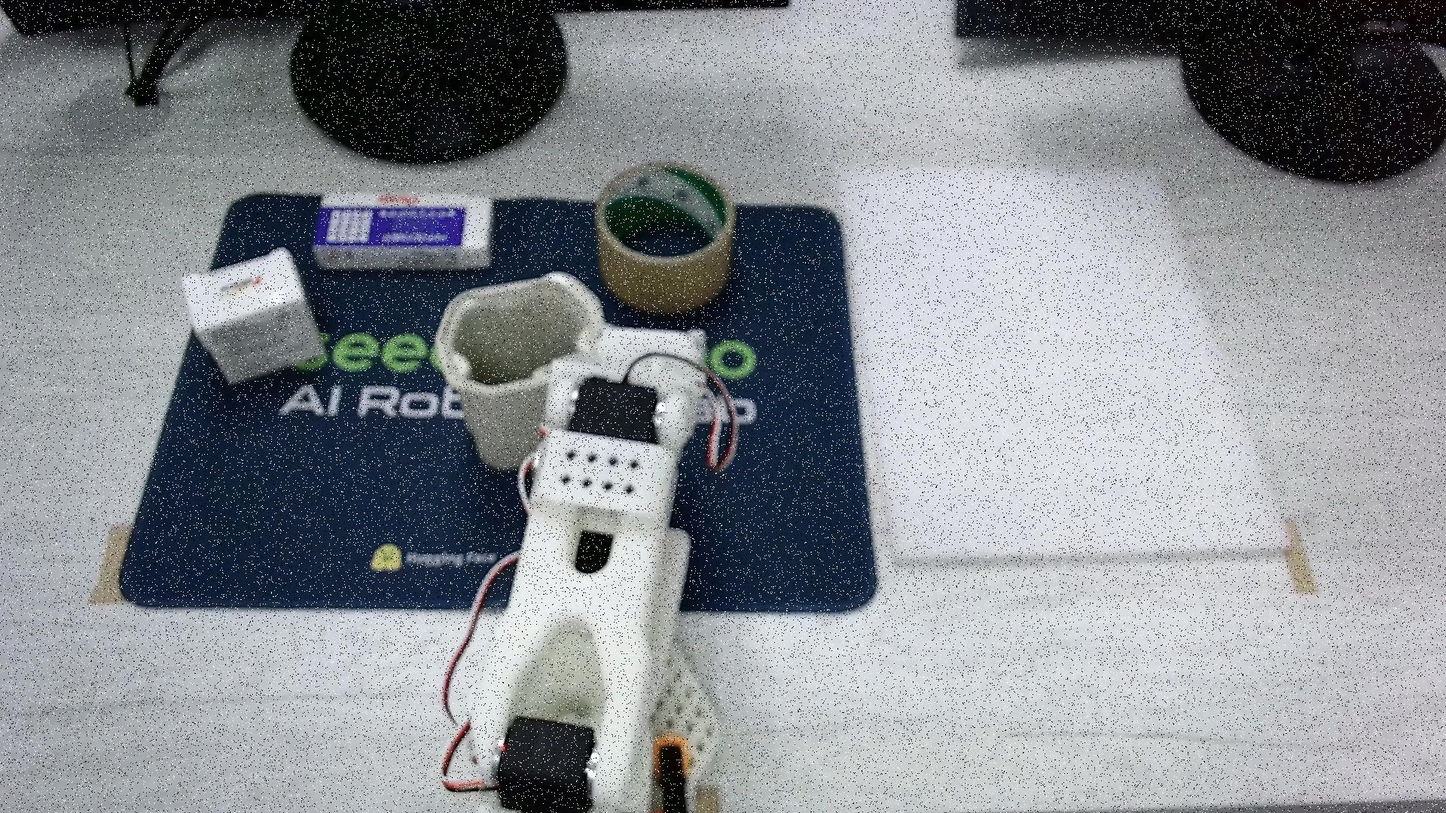eraser: (182, 248, 322, 384)
